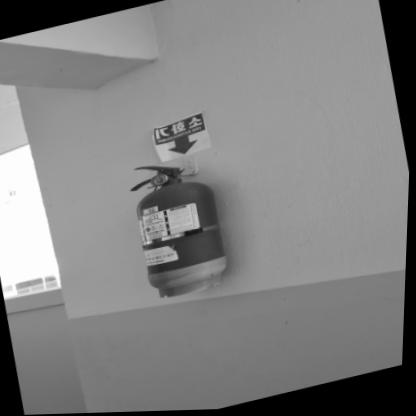FE: (126, 151, 235, 304)
